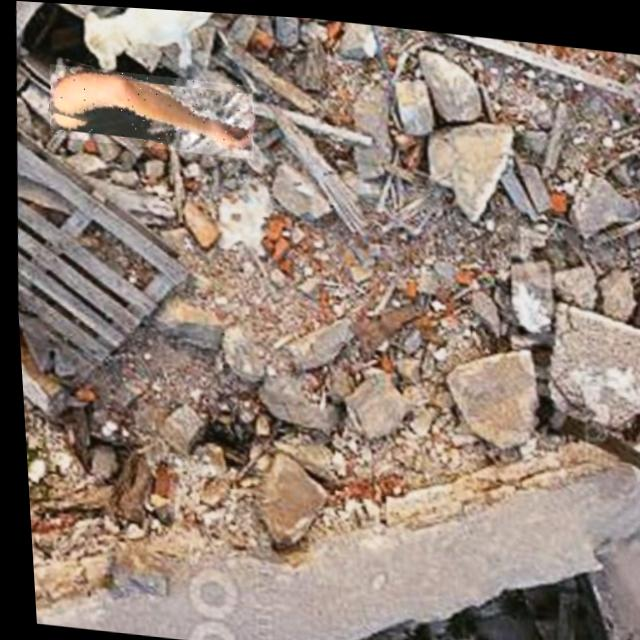Person in Rubble: (45, 62, 256, 156)
